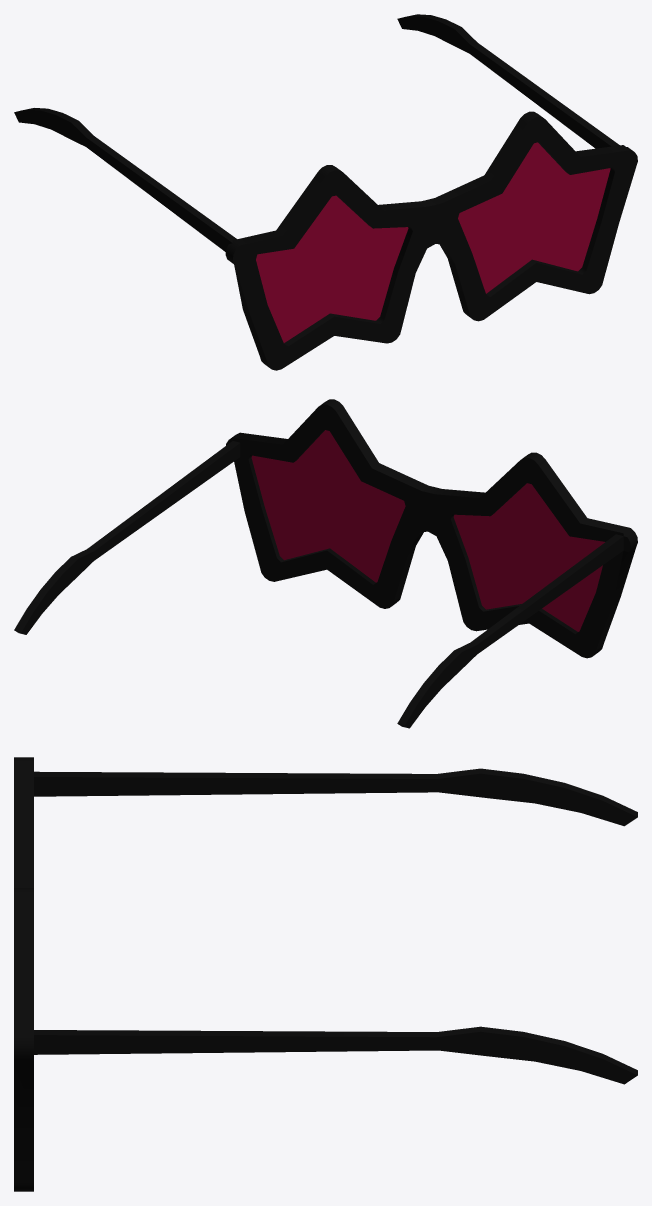
Rendered from Spects_3.FBX.
The picture shows the model from 3 angles, top to bottom: view 1: azimuth 30°, elevation 25°; view 2: azimuth 150°, elevation 25°; view 3: azimuth 270°, elevation 25°; orthographic projection. The views are drawn at different scales.
Visible parts, largest first — view 1: 20201005 星のサングラス v2 フレーム; view 2: 20201005 星のサングラス v2 フレーム; view 3: 20201005 星のサングラス v2 フレーム.
Part boxes in pixels (<box>): 20201005 星のサングラス v2 フレーム: <box>14,14,637,370</box>; 20201005 星のサングラス v2 フレーム: <box>14,399,637,728</box>; 20201005 星のサングラス v2 フレーム: <box>14,757,637,1191</box>.
Bounding box in the file's own units: 25.68 × 11.52 × 24.82.
